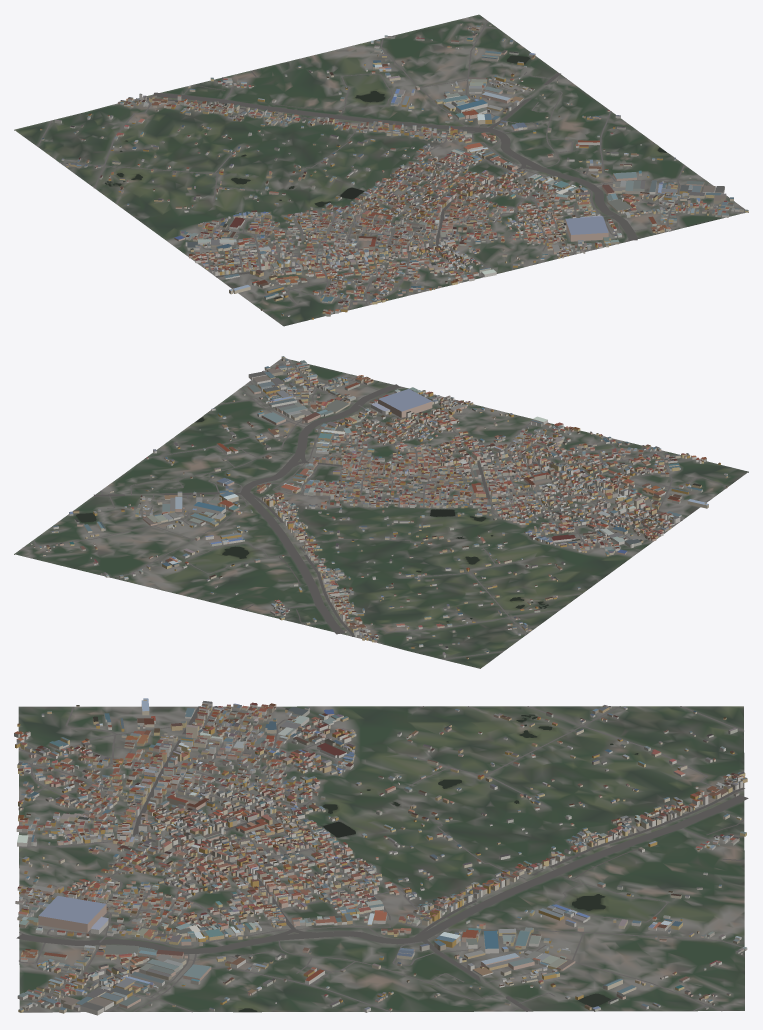
3 views of the same model, one above another, from view 1: azimuth 30°, elevation 25°; view 2: azimuth 150°, elevation 25°; view 3: azimuth 270°, elevation 25° (orthographic). The views are drawn at different scales.
Visible parts, largest first — view 1: ground, buildings, roads, water; view 2: ground, buildings, roads, water; view 3: ground, buildings, roads, water.
Part boxes in pixels (left/top/right/bottom): ground: left=14, top=14, right=748, bottom=326; buildings: left=40, top=23, right=748, bottom=319; roads: left=37, top=20, right=744, bottom=311; water: left=105, top=55, right=666, bottom=206; ground: left=14, top=358, right=748, bottom=668; buildings: left=30, top=356, right=727, bottom=659; roads: left=22, top=358, right=728, bottom=659; water: left=76, top=417, right=548, bottom=622; ground: left=18, top=706, right=744, bottom=1012; buildings: left=14, top=698, right=747, bottom=1015; roads: left=16, top=706, right=748, bottom=1012; water: left=238, top=714, right=638, bottom=1011.
Bounding box in the file's own units: 1435 × 26.45 × 1420.
